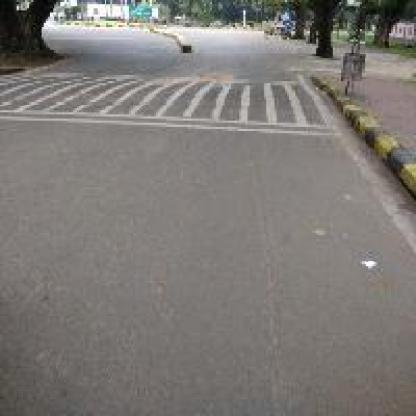Speed Bump: (0, 69, 341, 137)
